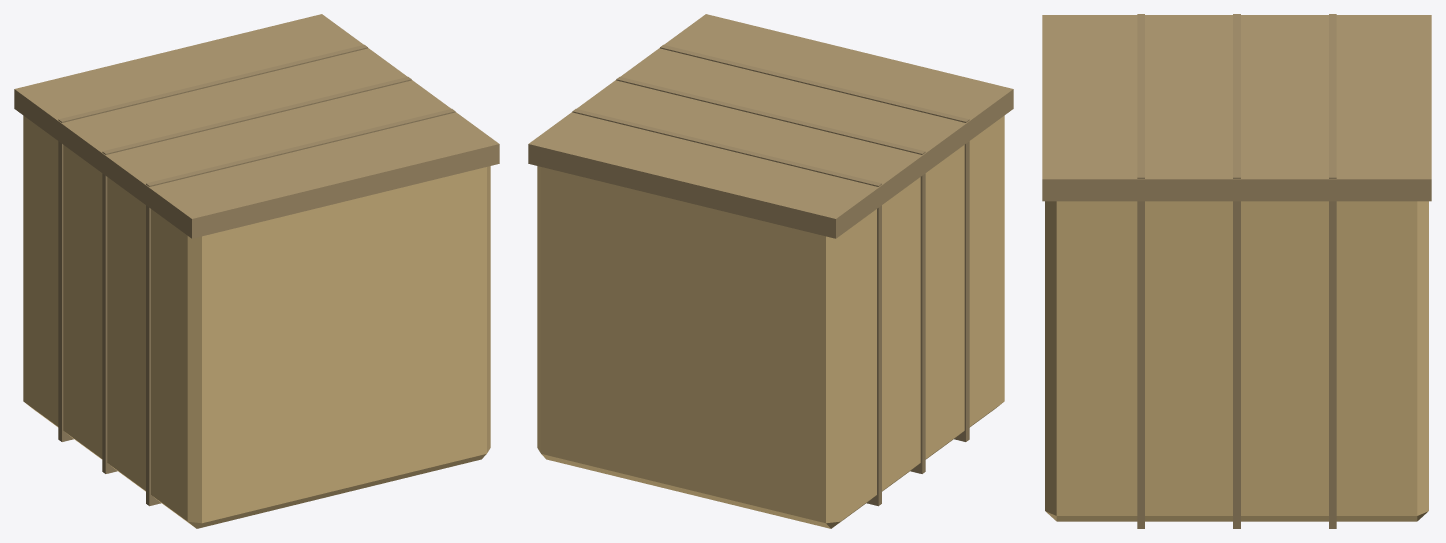
File: TreasureBlock.fbx
3 renders of one model, left to right at view 1: azimuth 30°, elevation 25°; view 2: azimuth 150°, elevation 25°; view 3: azimuth 270°, elevation 25°, orthographic. The views are drawn at different scales.
Parts seen in each view (by area): view 1: TreasureBlock; view 2: TreasureBlock; view 3: TreasureBlock.
Part boxes in pixels (bbox=[...]): TreasureBlock: bbox=[14, 14, 499, 528]; TreasureBlock: bbox=[528, 14, 1013, 528]; TreasureBlock: bbox=[1042, 14, 1431, 528].
Bounding box in the file's own units: 4.06 × 4.04 × 4.06.
Materials: 1 (1 with a texture image).
